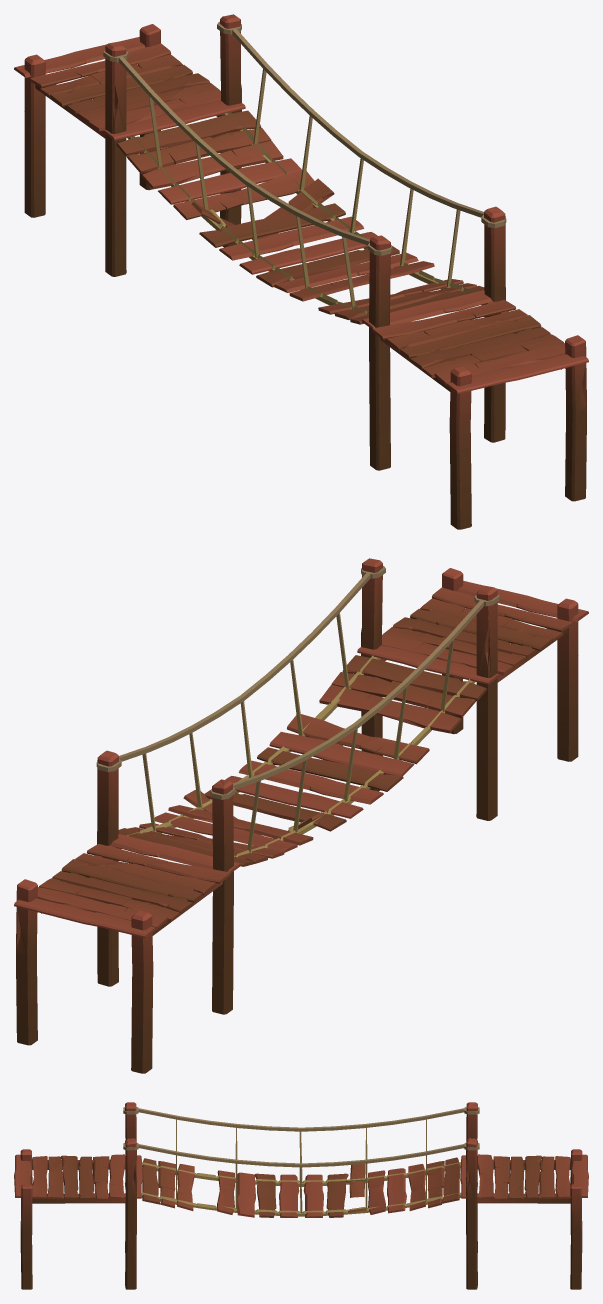
3 renders of one model, top to bottom at view 1: azimuth 30°, elevation 25°; view 2: azimuth 150°, elevation 25°; view 3: azimuth 270°, elevation 25°, orthographic. The views are drawn at different scales.
Visible parts, largest first — view 1: HangingBridge; view 2: HangingBridge; view 3: HangingBridge.
Boxes of the visible parts, left/top/right/bottom form: HangingBridge: left=14, top=14, right=588, bottom=529; HangingBridge: left=14, top=558, right=588, bottom=1073; HangingBridge: left=14, top=1102, right=588, bottom=1289.
Bounding box in the file's own units: 70.29 × 113 × 400.
1 material, 1 textured.
